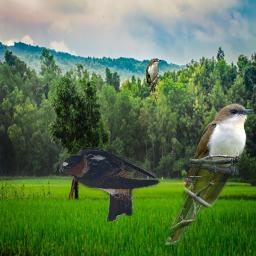Cuckoo: (164, 101, 253, 245), (146, 57, 161, 103)
Swallow: (59, 146, 161, 222)
